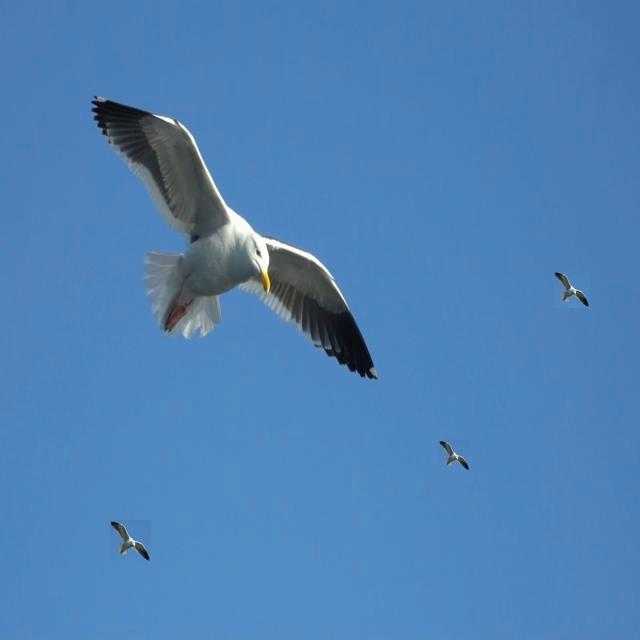bird: (89, 89, 383, 383), (110, 522, 150, 561), (556, 271, 591, 305), (440, 441, 470, 470)
